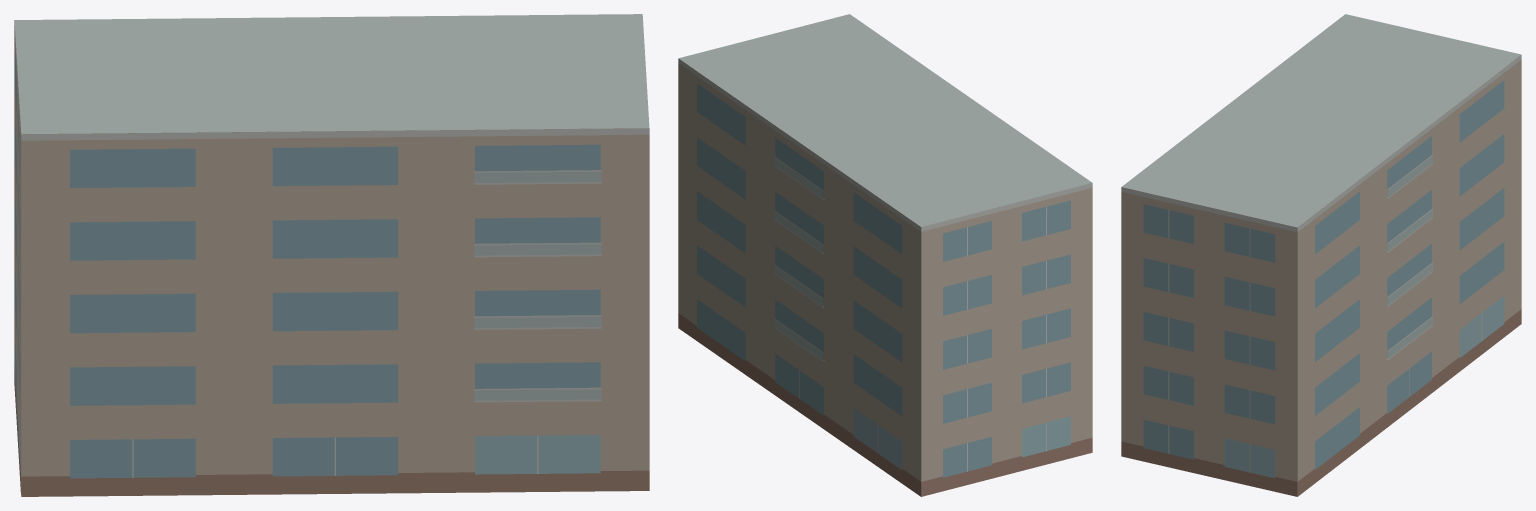
File: survey-upis-32682617.glb
3 views of the same model, side by side, from view 1: azimuth 30°, elevation 25°; view 2: azimuth 150°, elevation 25°; view 3: azimuth 270°, elevation 25° (orthographic). The views are drawn at different scales.
Visible parts, largest first — view 1: survey-upis-32682617.tmp; view 2: survey-upis-32682617.tmp; view 3: survey-upis-32682617.tmp.
Part boxes in pixels (x1,y1,x2,y2): survey-upis-32682617.tmp: (14, 14, 649, 496); survey-upis-32682617.tmp: (678, 14, 1092, 496); survey-upis-32682617.tmp: (1121, 14, 1521, 496).
Size of the model in its own units: 22.96 by 13.5 by 18.19.
